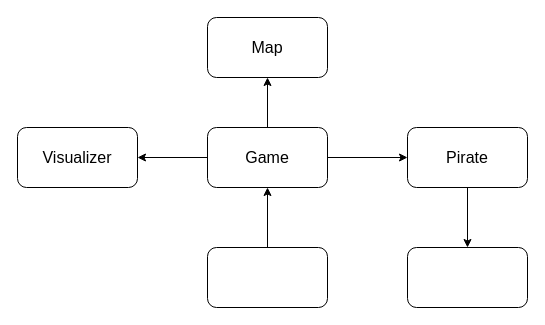
Some shapes in this 545 by 325 pixel diagram are drawn without their labels. The box of each missing label's shape, as (x1, y1, x2, y2) in pixels:
Agent: (206, 246, 328, 308)
HintManager: (406, 246, 528, 308)
